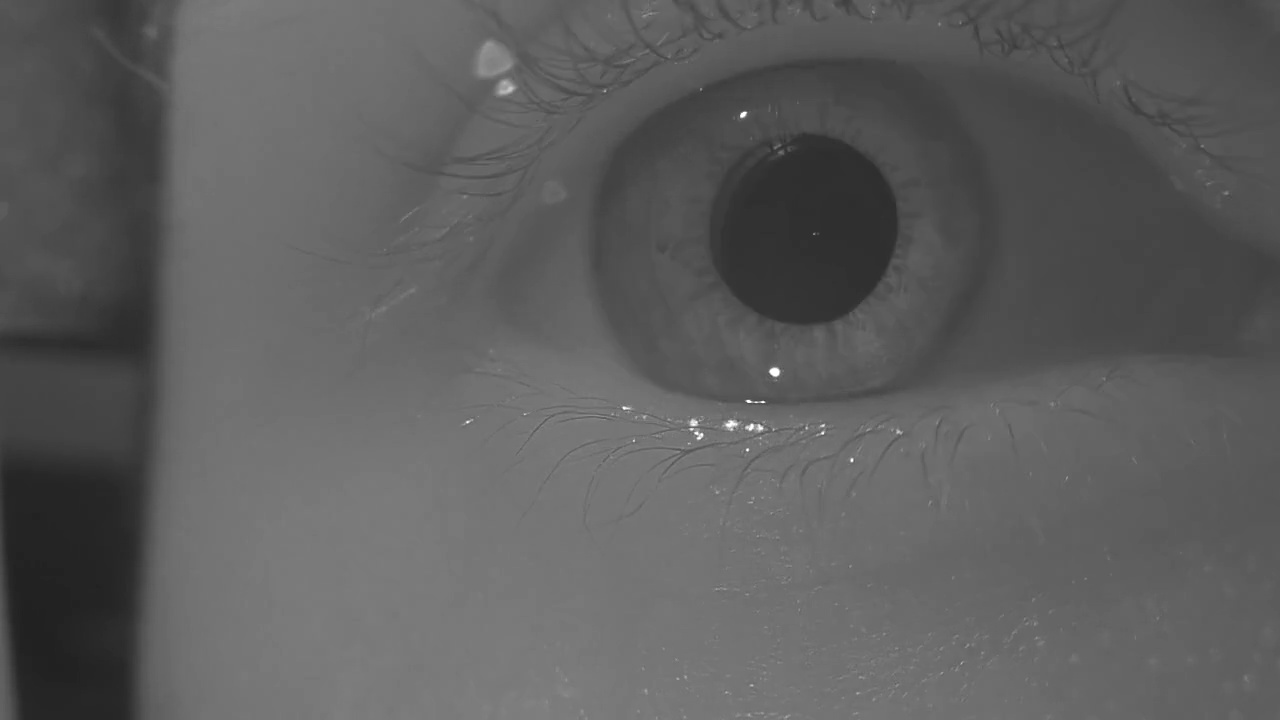pupil: (708, 136, 899, 322)
